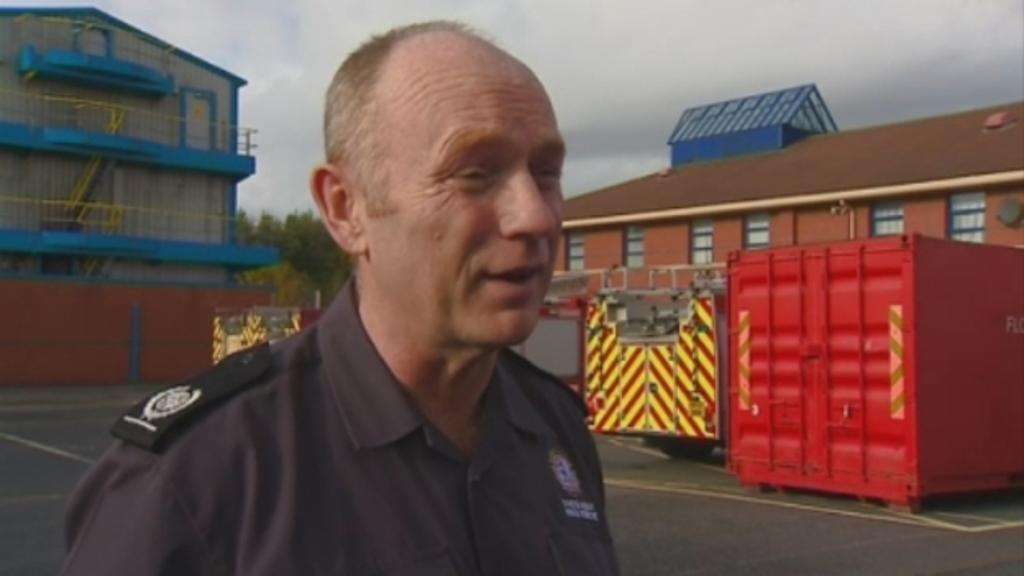face: (359, 37, 567, 347)
